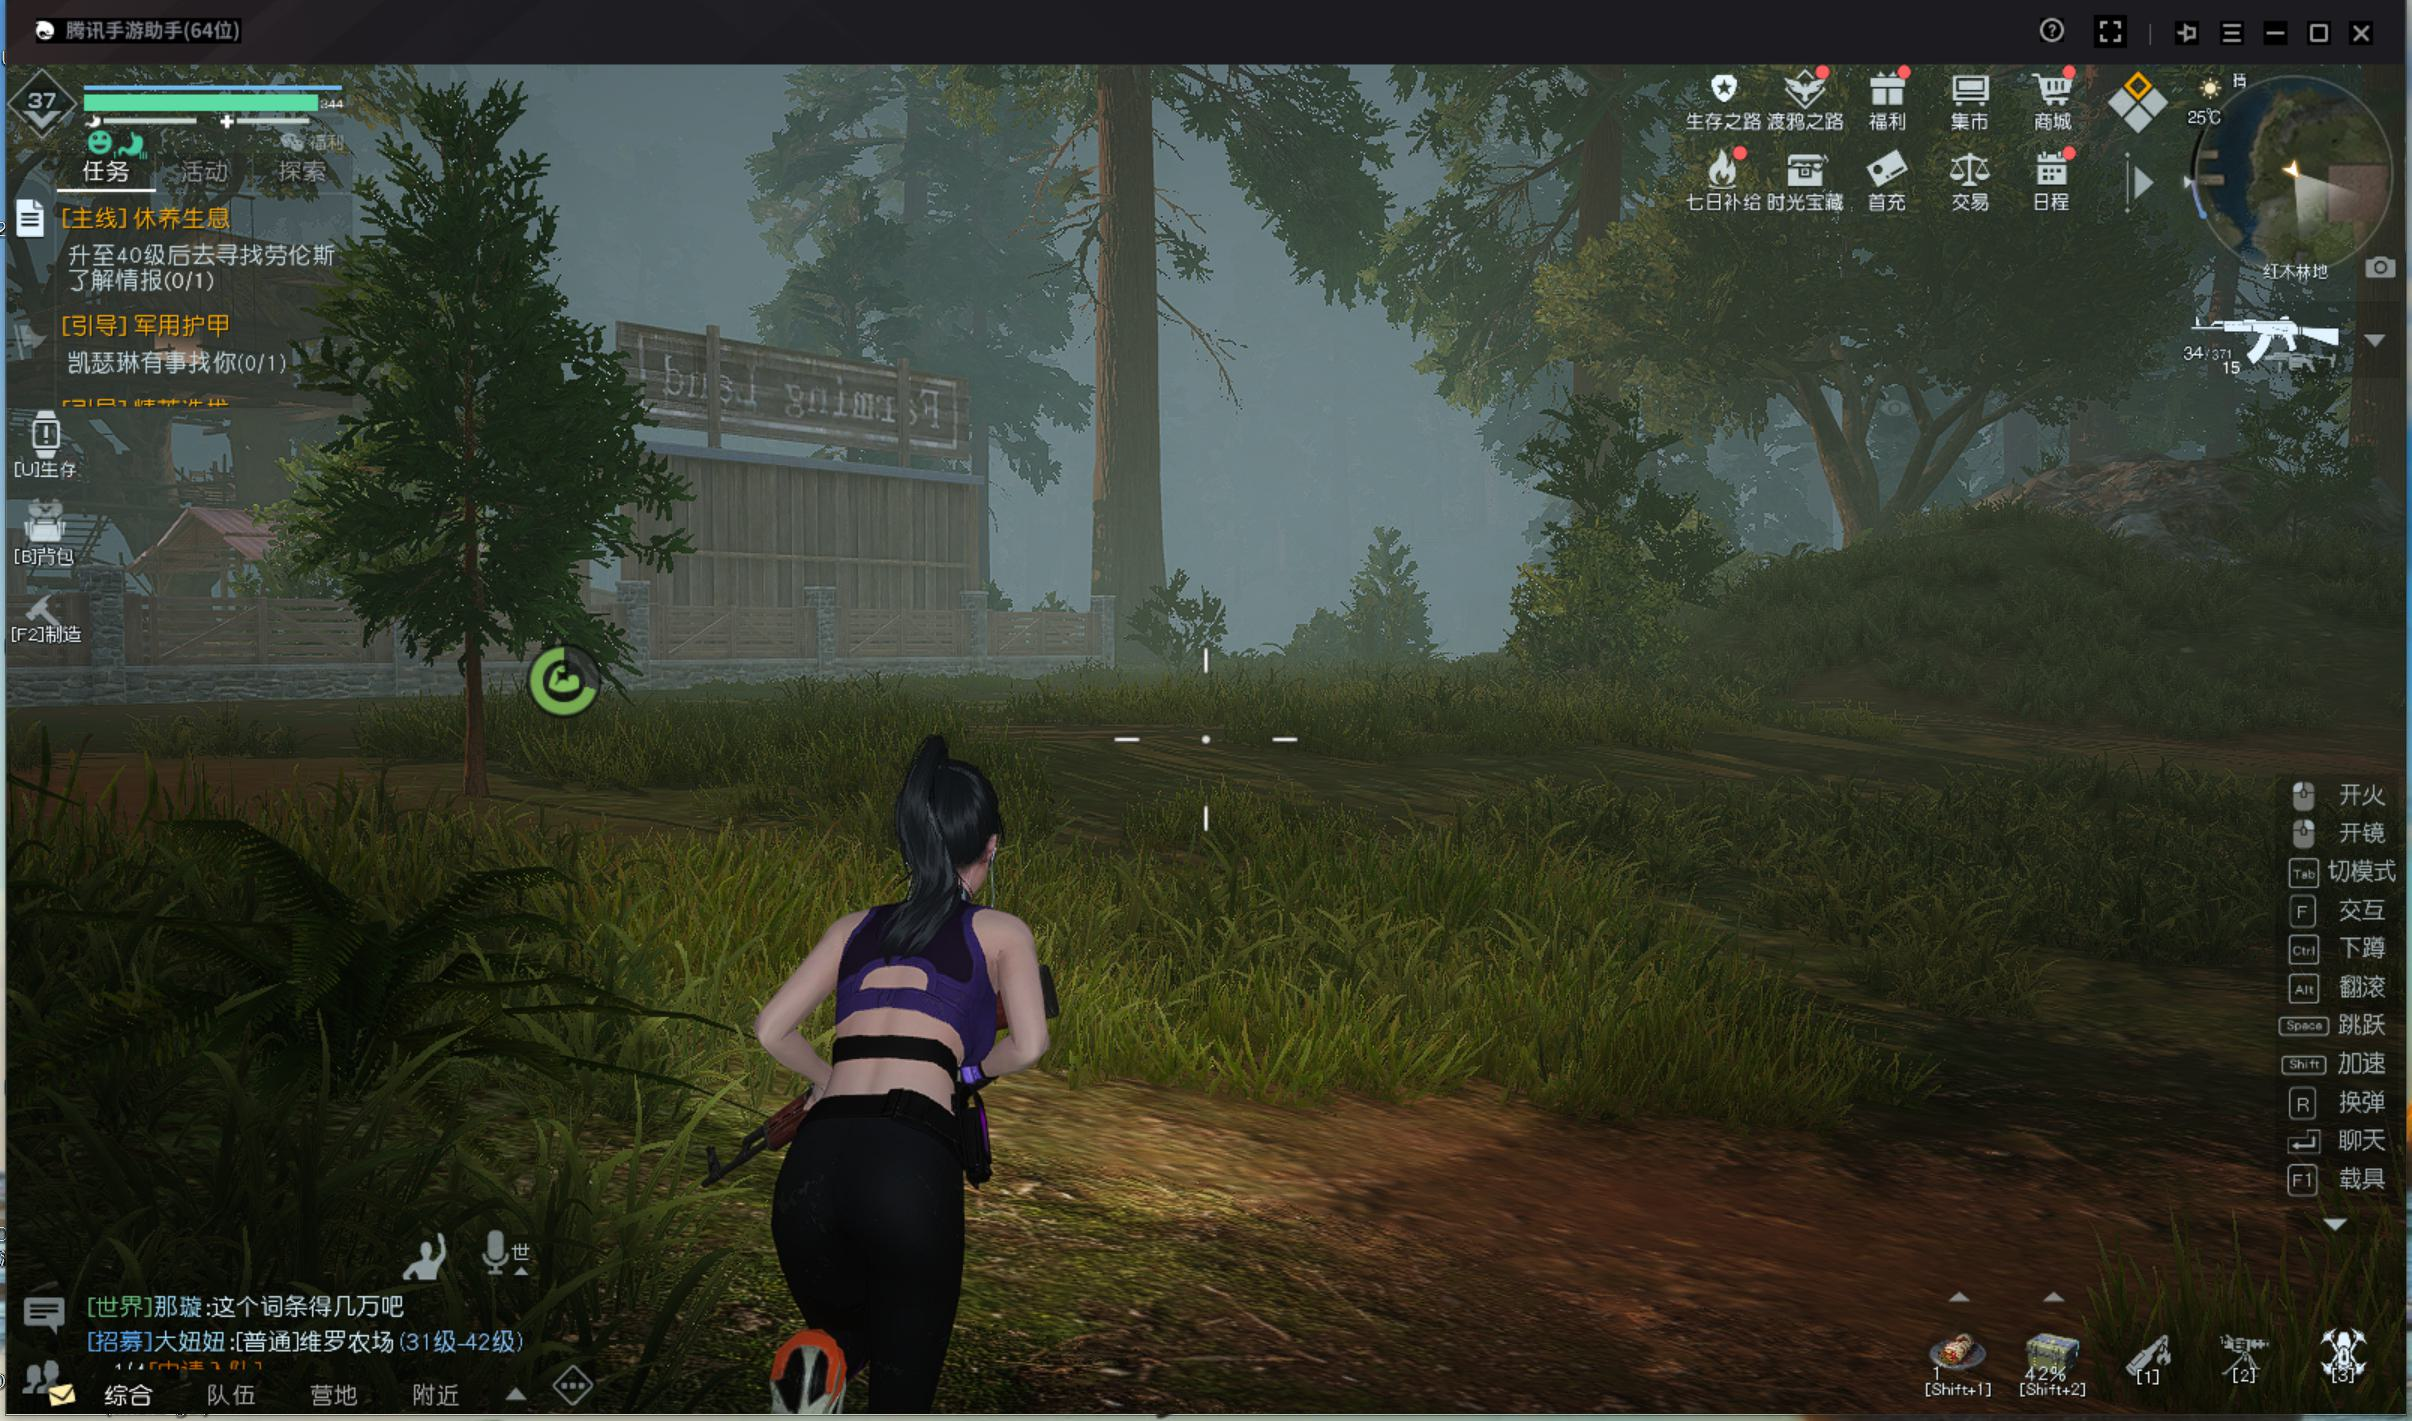tree: (1067, 107, 1182, 689), (1551, 179, 1632, 694)
